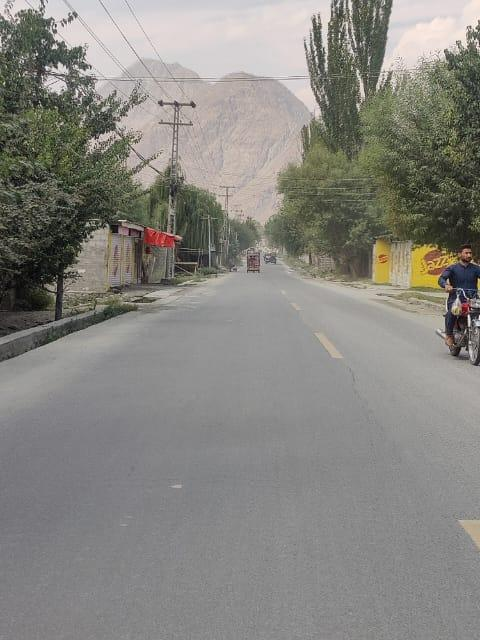sharp_turn: (146, 236, 480, 640)
